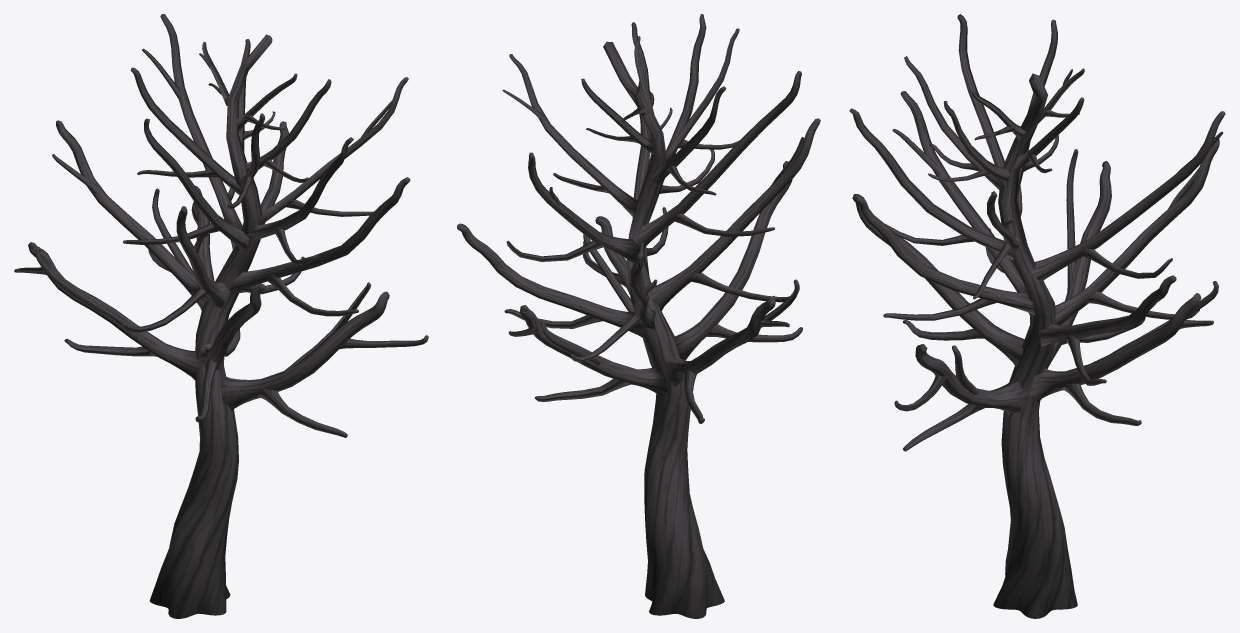
File: dead-tree-mlmk5488ou-transformed.glb
3 views of the same model, side by side, from view 1: azimuth 30°, elevation 25°; view 2: azimuth 150°, elevation 25°; view 3: azimuth 270°, elevation 25° (orthographic). The views are drawn at different scales.
Visible parts, largest first — view 1: DeadTree_1; view 2: DeadTree_1; view 3: DeadTree_1.
Part boxes in pixels (x1,y1,x2,y2): DeadTree_1: (14, 14, 428, 618); DeadTree_1: (457, 14, 820, 618); DeadTree_1: (849, 14, 1225, 618).
Size of the model in its own units: 6.15 by 9.5 by 5.75.
1 material, 1 textured.
